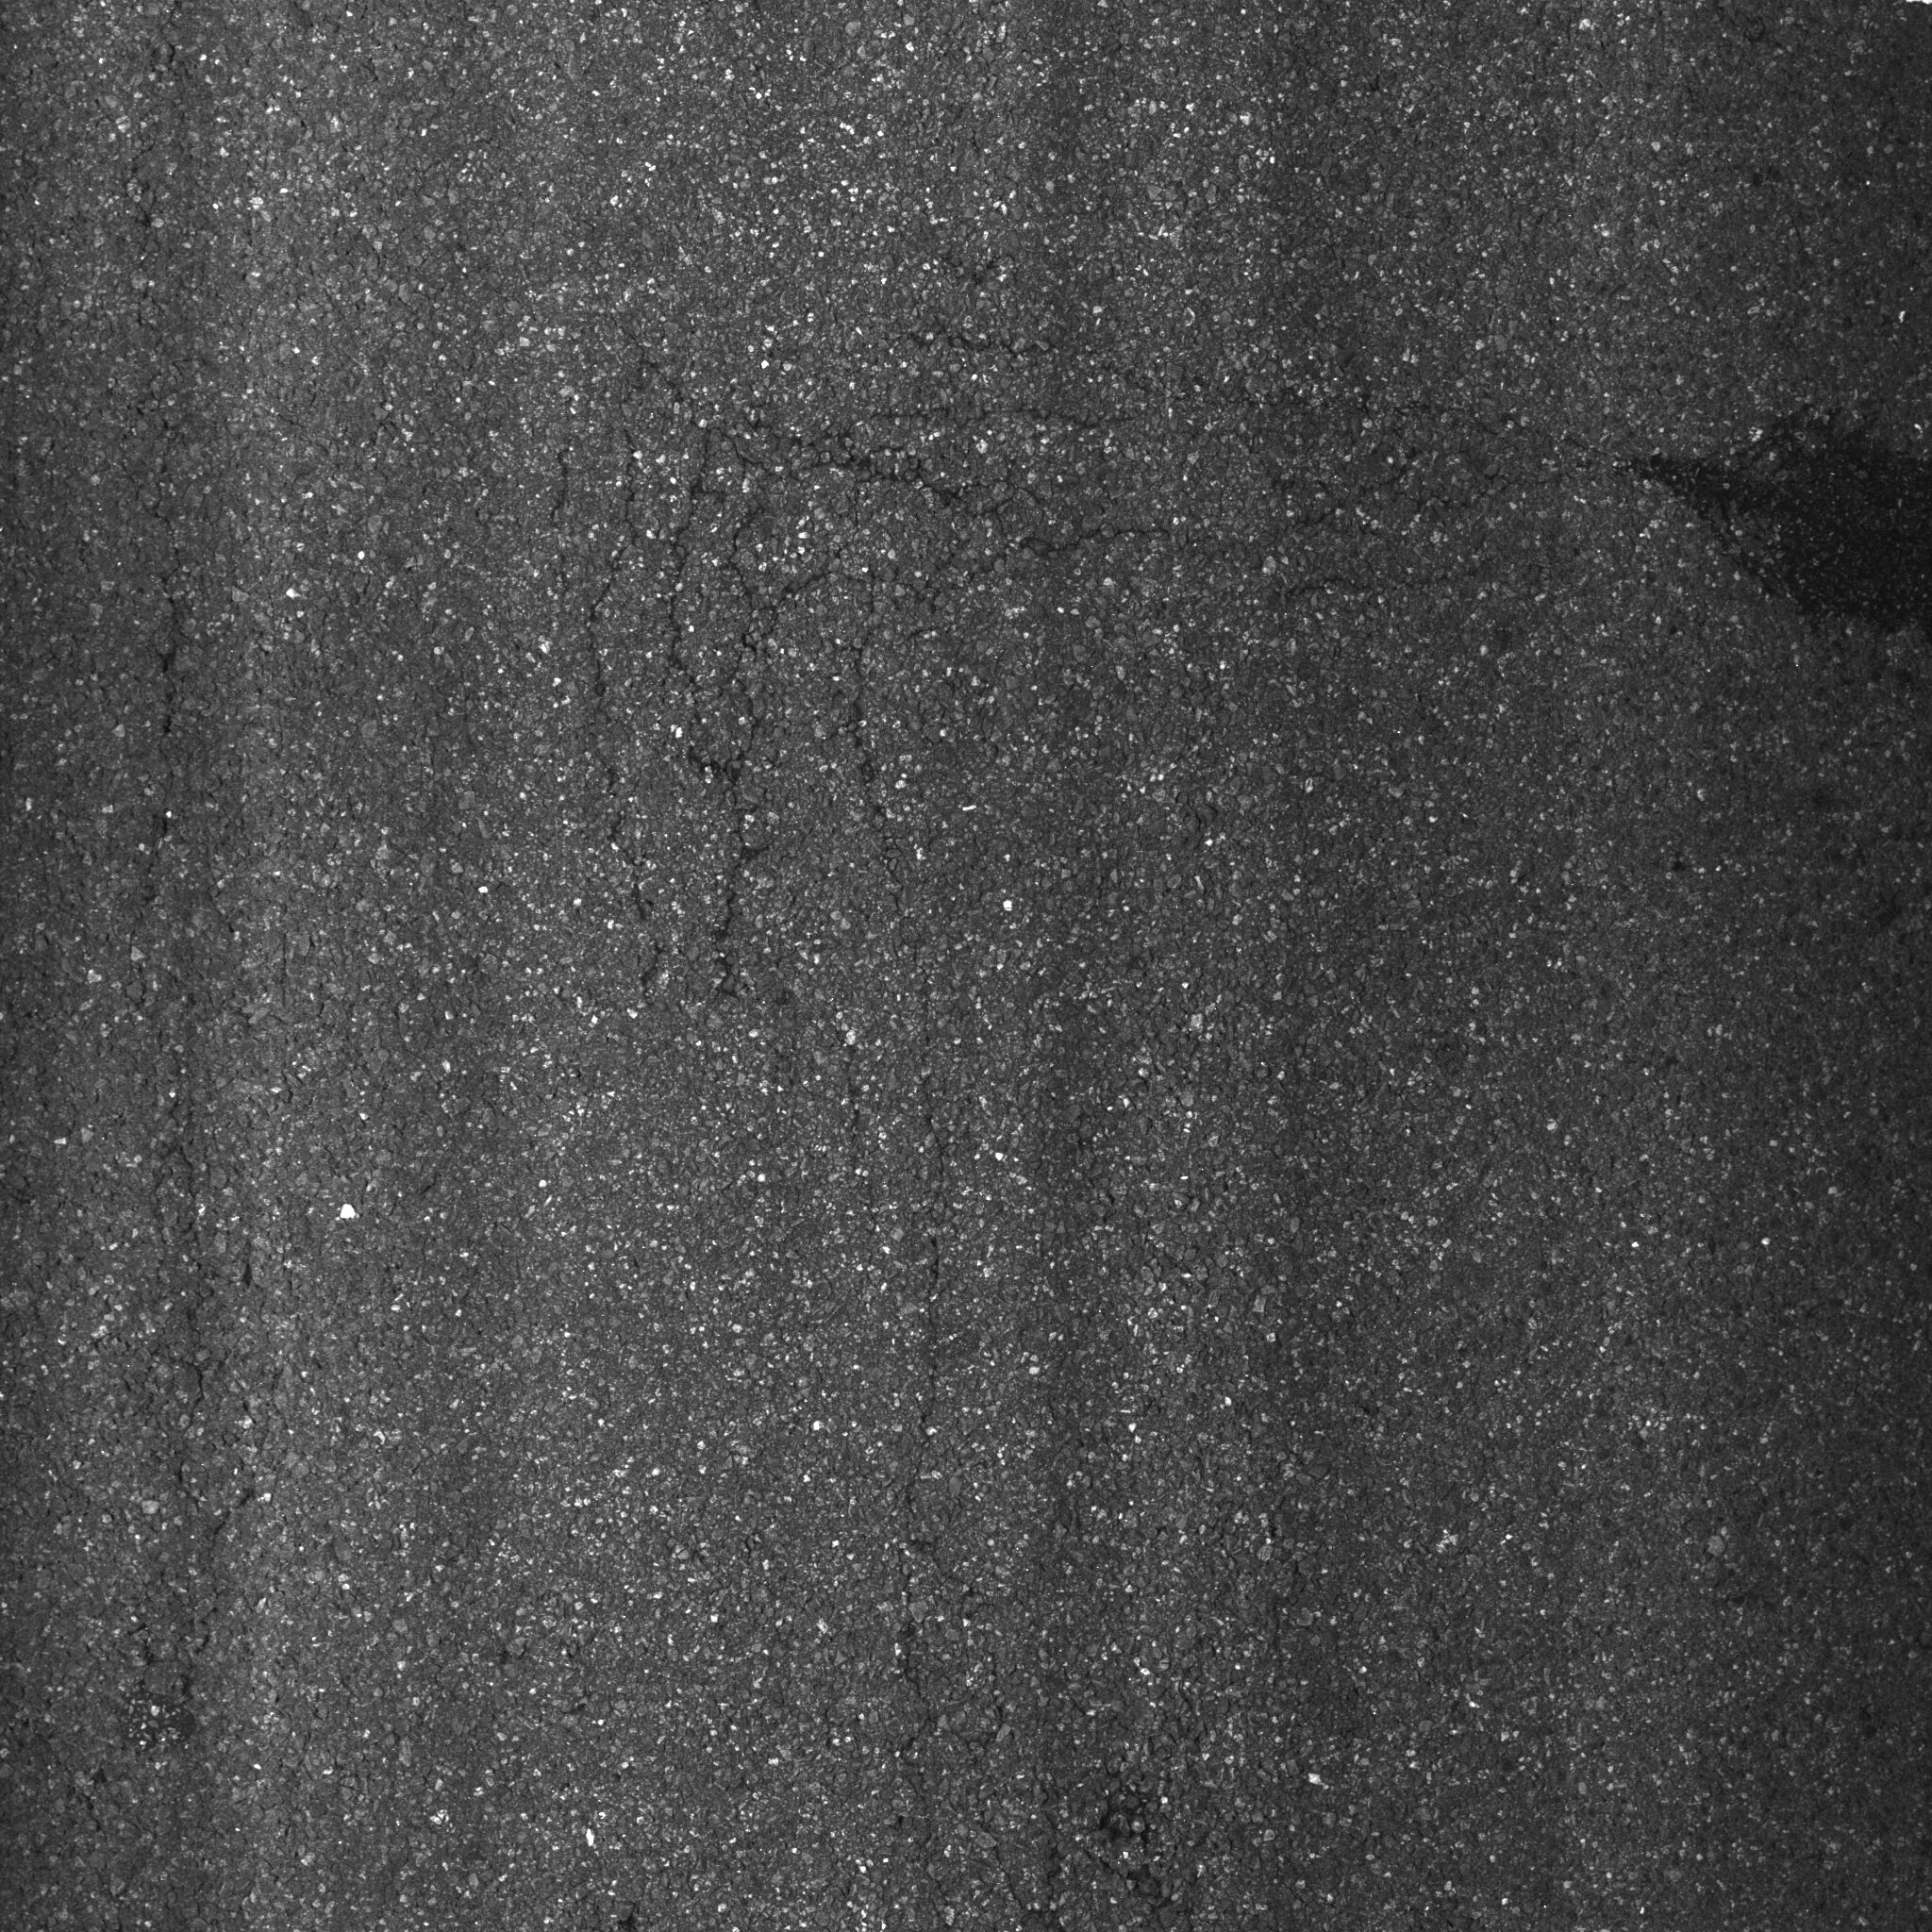alligator: (476, 262, 1599, 980)
